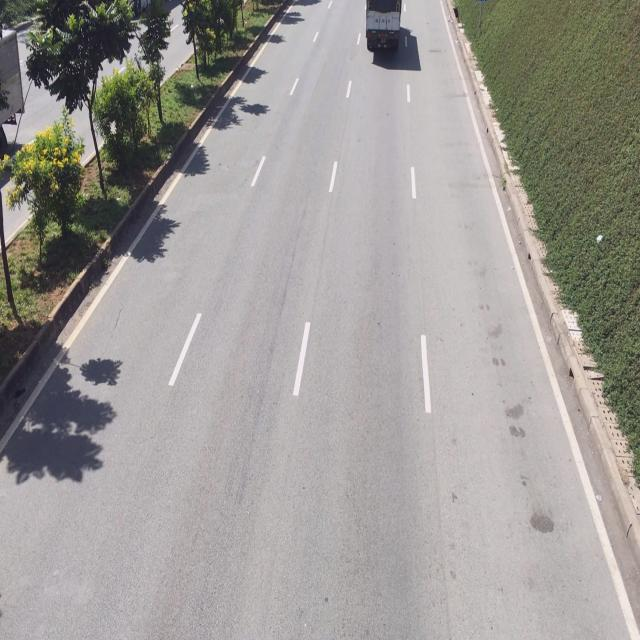truck: (363, 0, 404, 54)
